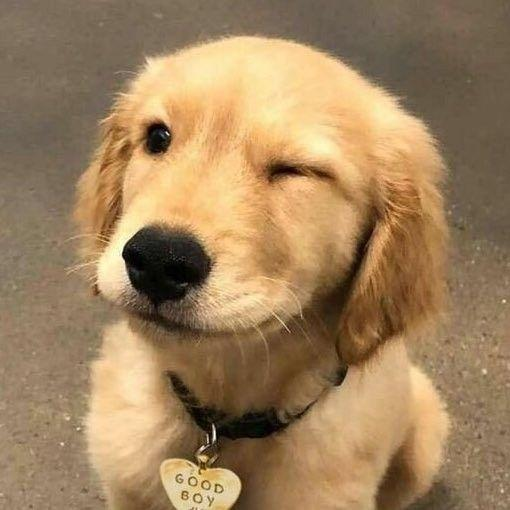puppy-dog: (66, 31, 463, 510)
